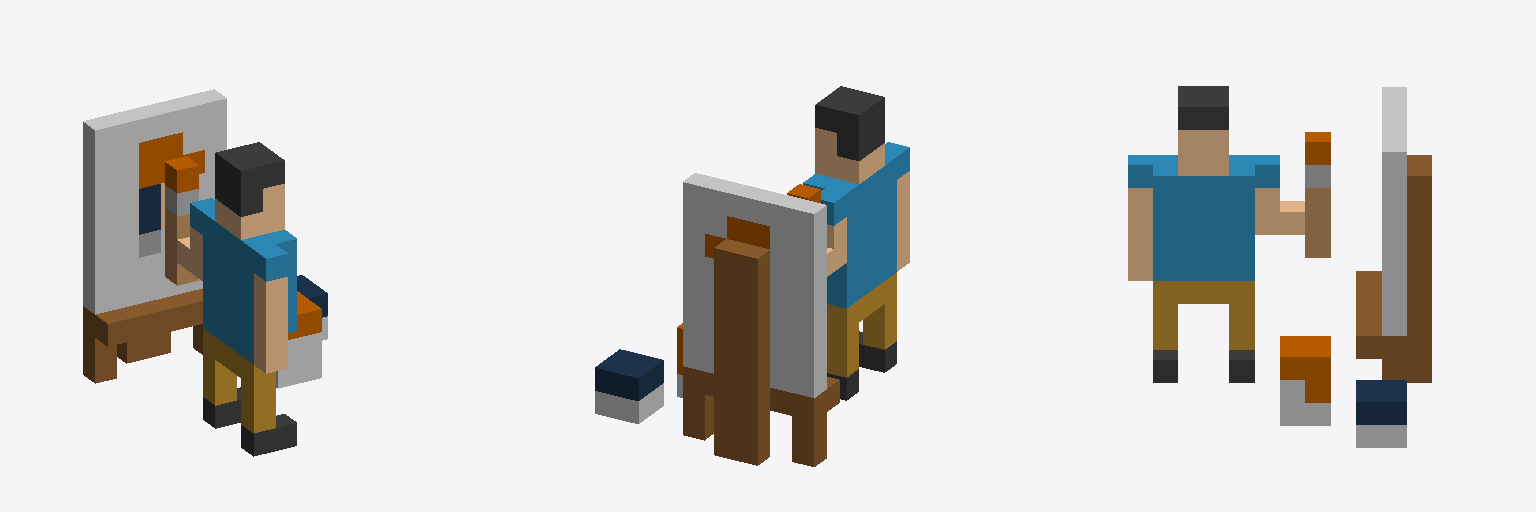
3 views of the same model, side by side, from view 1: azimuth 30°, elevation 25°; view 2: azimuth 150°, elevation 25°; view 3: azimuth 270°, elevation 25° (orthographic).
Bounding box in the file's own units: 10 × 12 × 12.
1 materials, 1 textured.